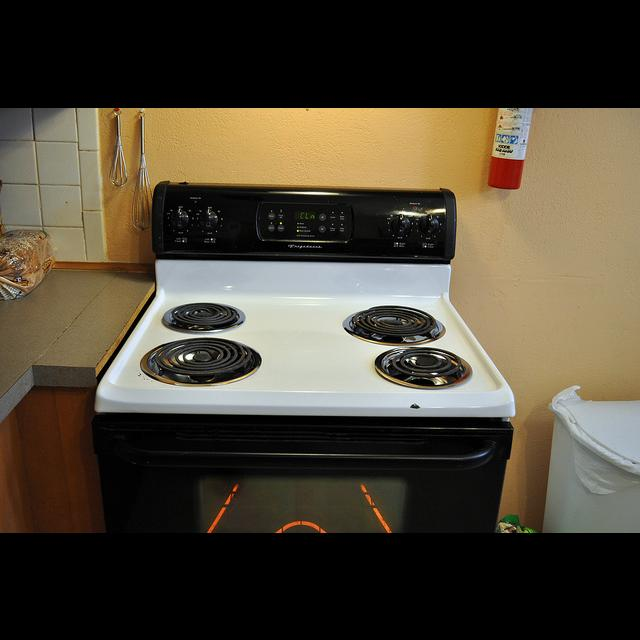Oven: (93, 177, 517, 532)
